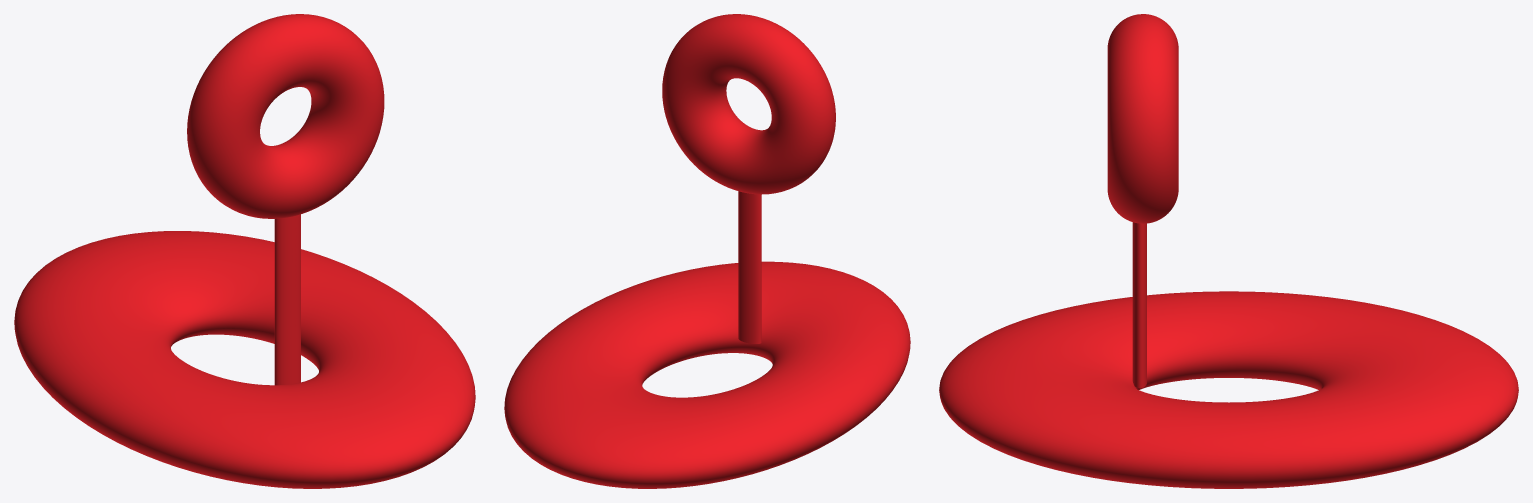
Rendered from asset.glb.
3 views of the same model, side by side, from view 1: azimuth 30°, elevation 25°; view 2: azimuth 150°, elevation 25°; view 3: azimuth 270°, elevation 25° (orthographic). The views are drawn at different scales.
Parts seen in each view (by area): view 1: mesh_id40, mesh_id28, mesh_id29; view 2: mesh_id40, mesh_id28, mesh_id29; view 3: mesh_id40, mesh_id28, mesh_id29.
Boxes of the visible parts, x1=… form: mesh_id40: x1=14, y1=231, x2=475, y2=488; mesh_id28: x1=187, y1=14, x2=384, y2=218; mesh_id29: x1=274, y1=214, x2=300, y2=385; mesh_id40: x1=504, y1=261, x2=910, y2=488; mesh_id28: x1=662, y1=14, x2=835, y2=194; mesh_id29: x1=738, y1=191, x2=761, y2=343; mesh_id40: x1=939, y1=291, x2=1518, y2=488; mesh_id28: x1=1107, y1=14, x2=1178, y2=223; mesh_id29: x1=1132, y1=222, x2=1146, y2=388.
Size of the model in its own units: 0.9847 by 1.09 by 1.44.
Materials: 3 (3 with a texture image).
